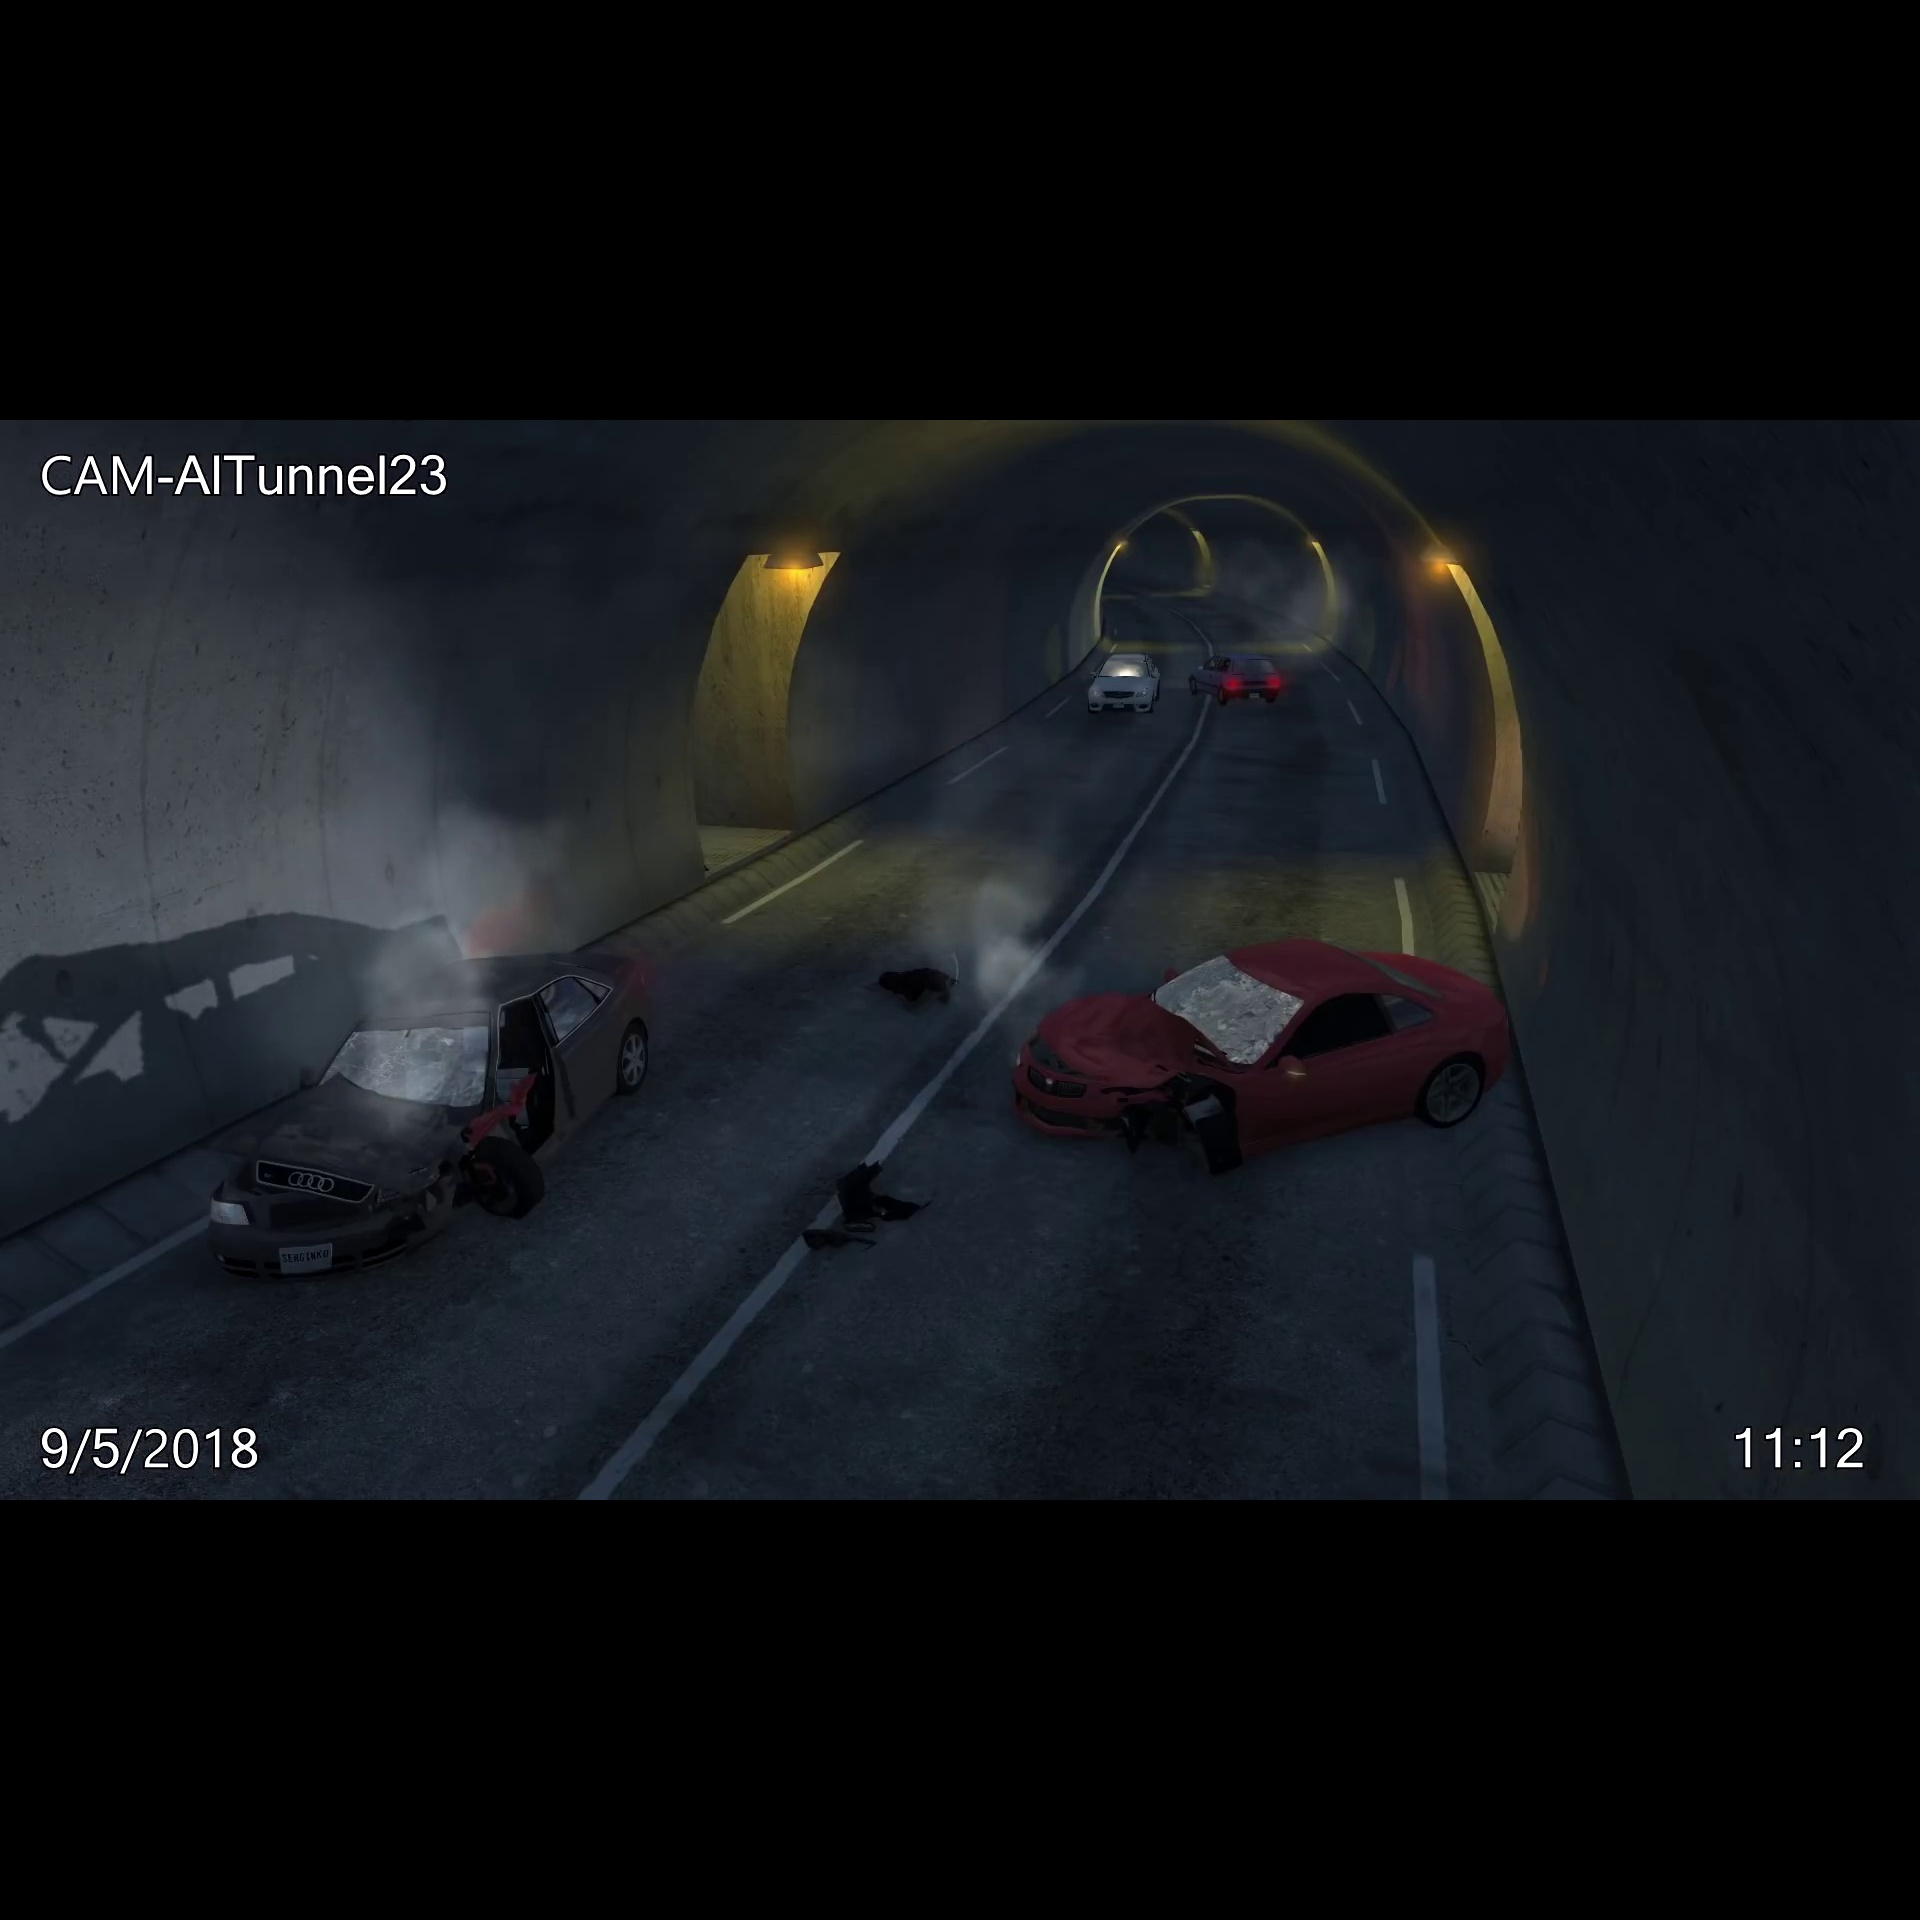vehicle: (195, 934, 668, 1298), (1000, 930, 1537, 1176), (1182, 645, 1285, 712), (1085, 647, 1167, 723)
